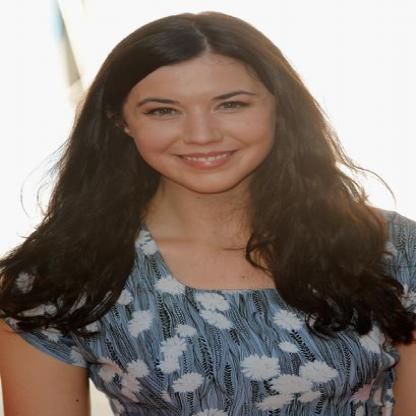long-hair: (38, 193, 388, 234)
